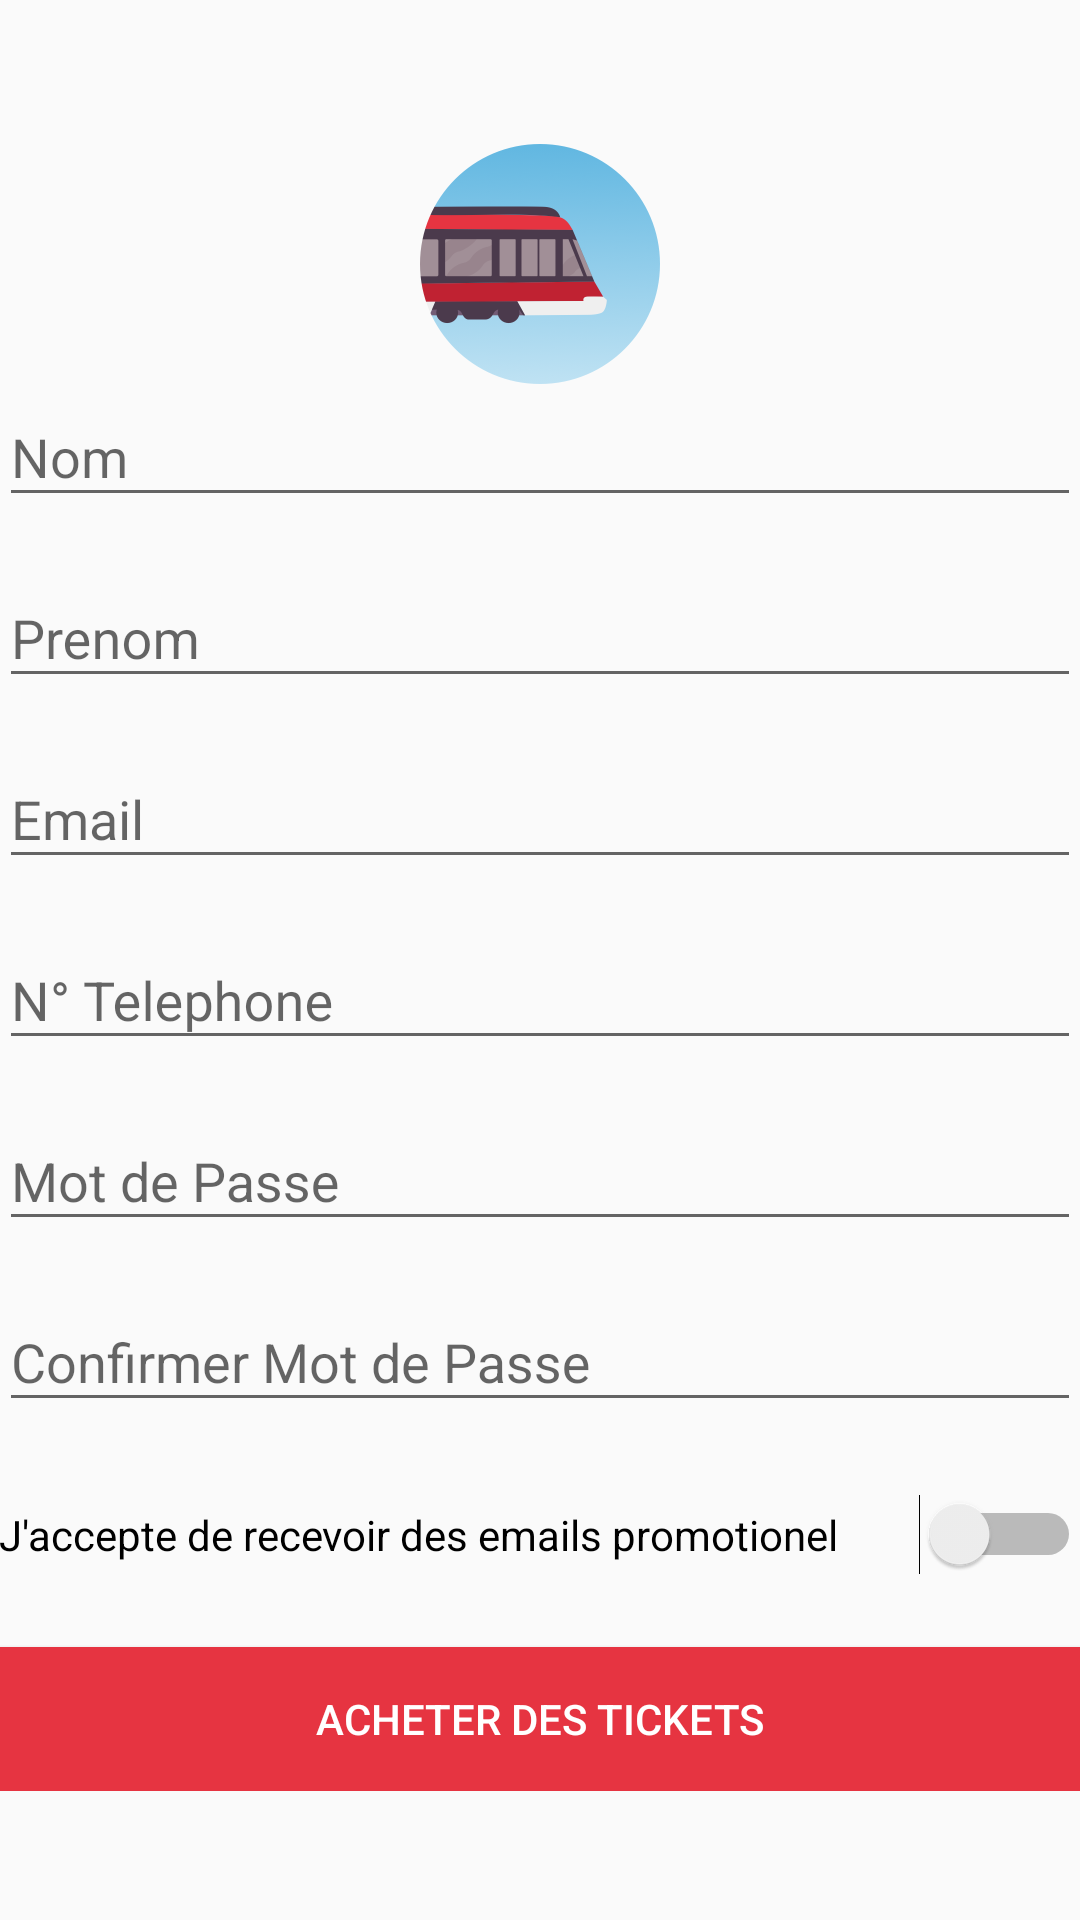

Icon click points for this 1080 x 1920 phone screenshot, format [x,y]:
illustration connexion: [540,264]
